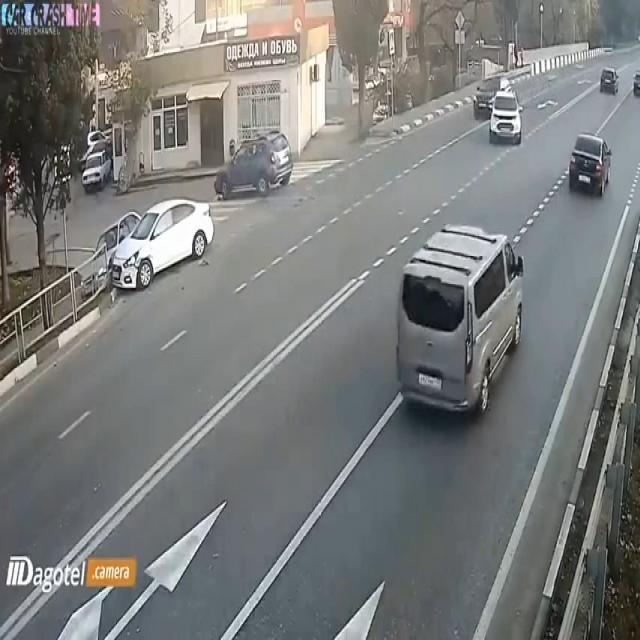Accident: (96, 193, 214, 313)
